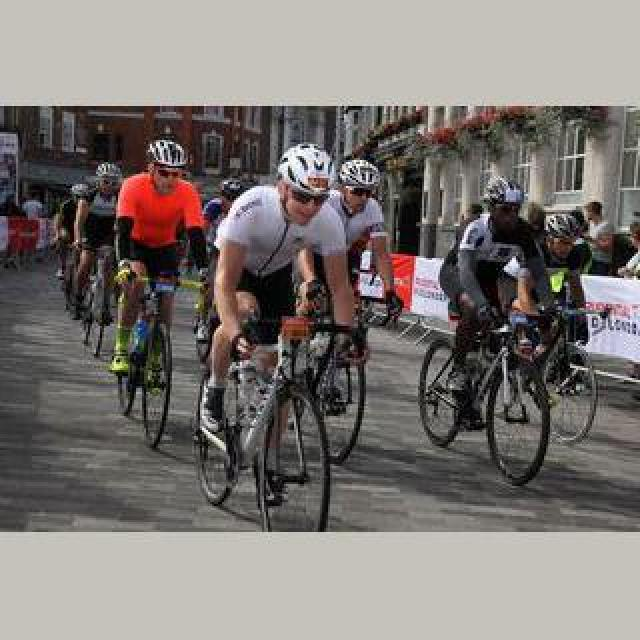MC-Bike: (202, 144, 338, 474), (446, 174, 548, 426), (112, 136, 204, 392), (326, 158, 402, 392), (540, 212, 594, 334), (80, 170, 122, 314), (582, 200, 614, 270), (618, 222, 640, 280)
Person: (190, 312, 332, 530), (416, 304, 554, 486), (116, 268, 180, 446), (526, 300, 598, 444), (76, 242, 118, 360)
